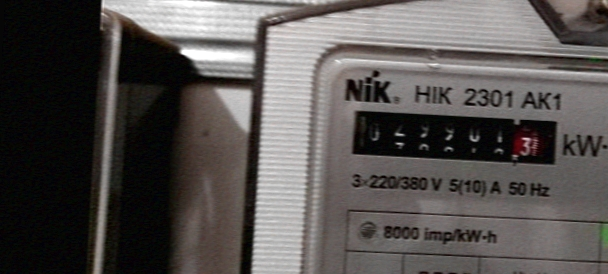0: (468, 118, 483, 144), (367, 120, 384, 141)
1: (493, 121, 507, 144)
2: (392, 118, 409, 138)
3: (520, 133, 534, 156)
9: (443, 119, 458, 142), (418, 117, 431, 140)
screen: (340, 98, 570, 175)
